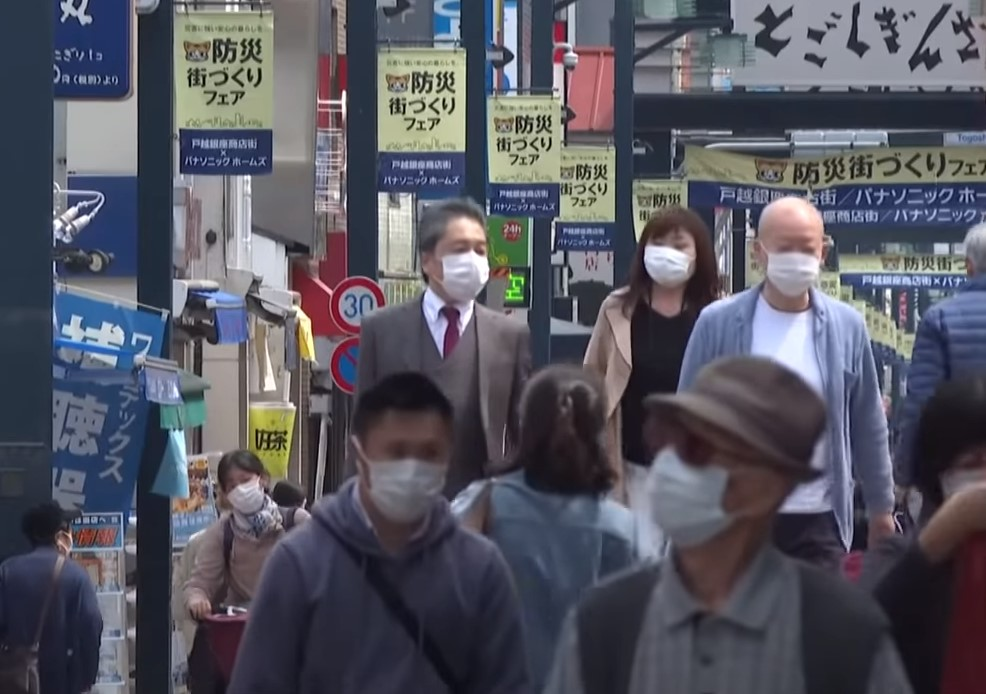face_with_mask: (647, 356, 824, 546), (353, 374, 453, 527), (751, 202, 829, 299), (422, 212, 491, 304), (643, 210, 699, 284), (218, 453, 267, 518)
